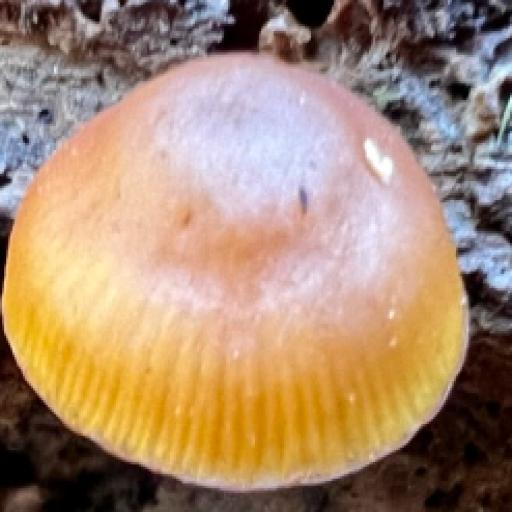mushroom: (2, 42, 480, 493)
